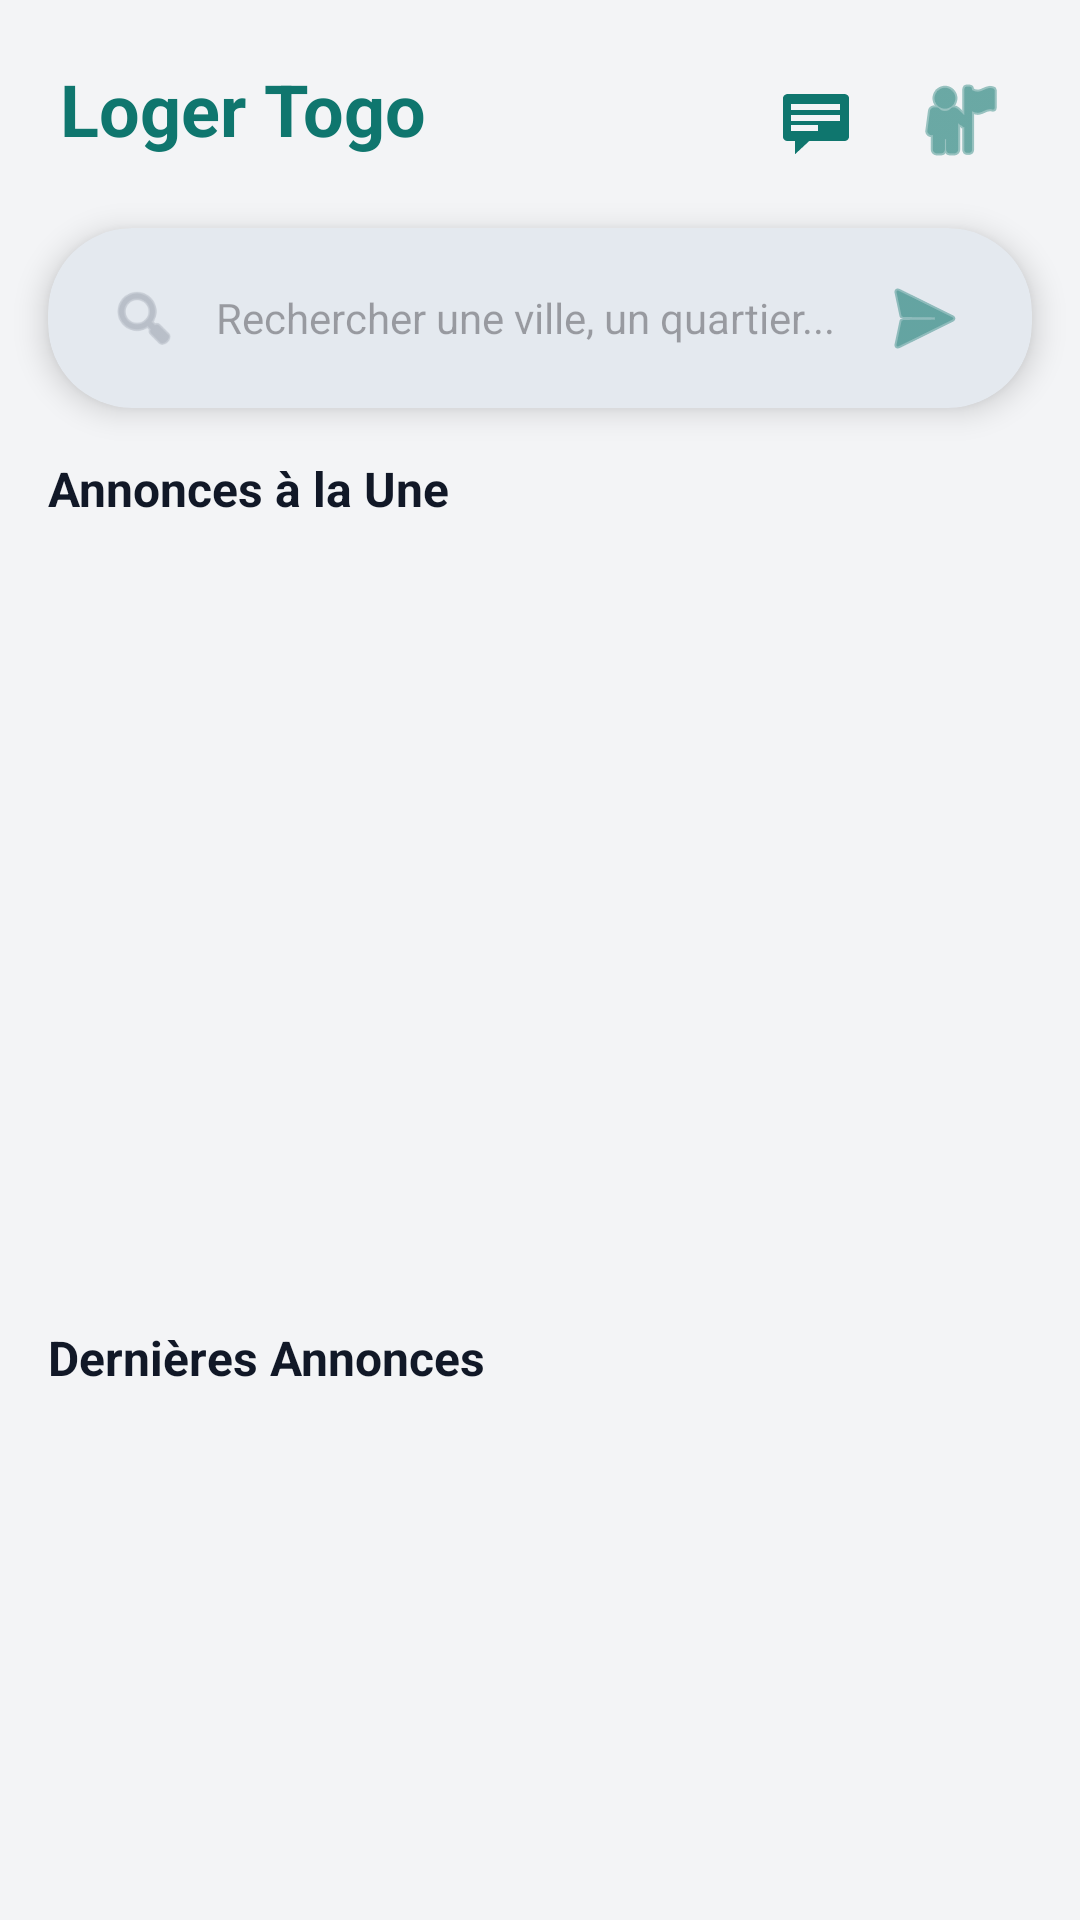

Point at icon controls on the screen. Image size 1080w x 1920h, points as [x,y].
chat: [816,124]
myplaces: [961,120]
search: [144,318]
send: [925,318]
